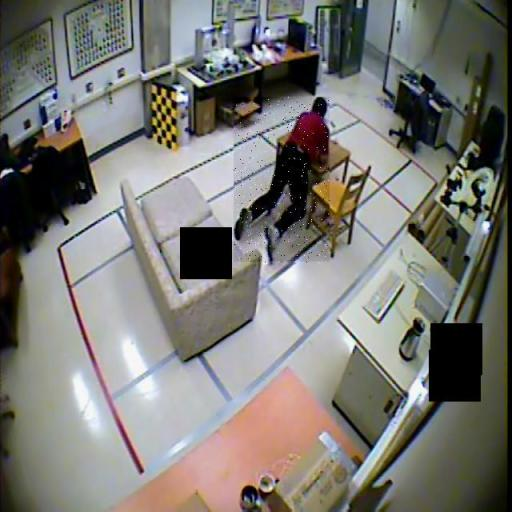Fall: (234, 98, 330, 264)
